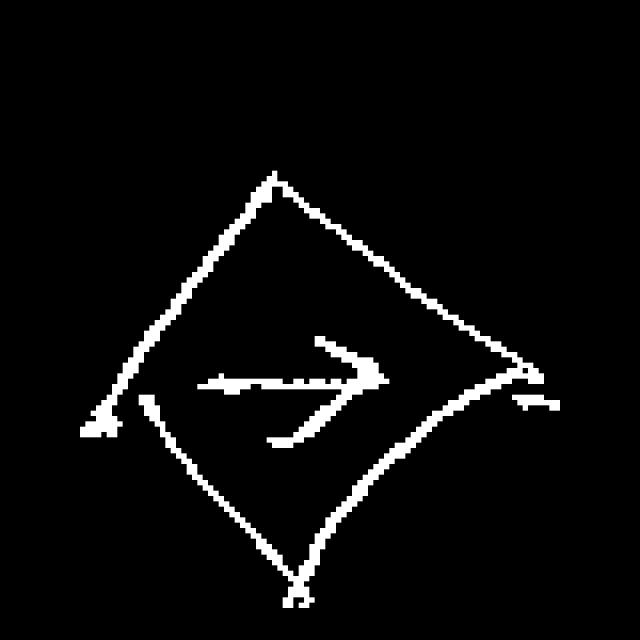dependant_current: (88, 167, 531, 624)
